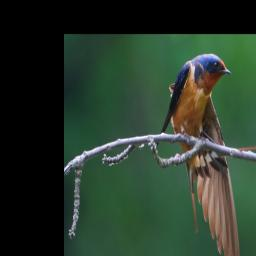Swallow: (155, 51, 243, 256)
